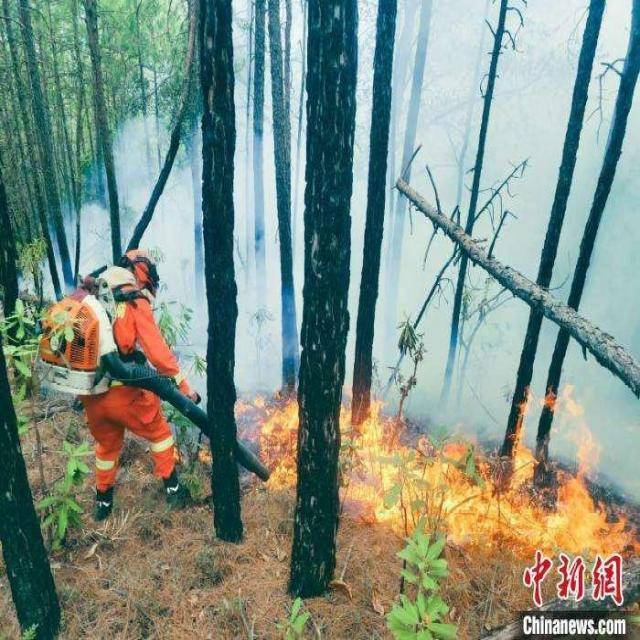fire: (341, 378, 635, 557), (232, 356, 298, 490)
